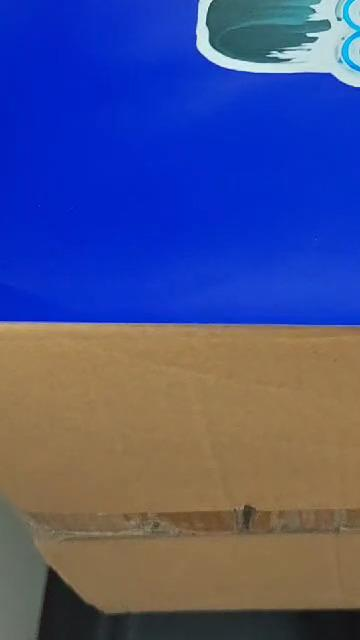B_R1: (22, 0, 360, 127)
